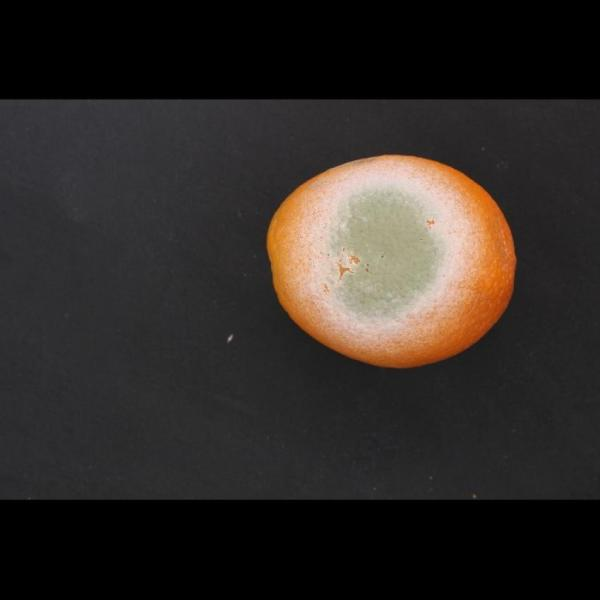Moho verde: (252, 152, 535, 373)
